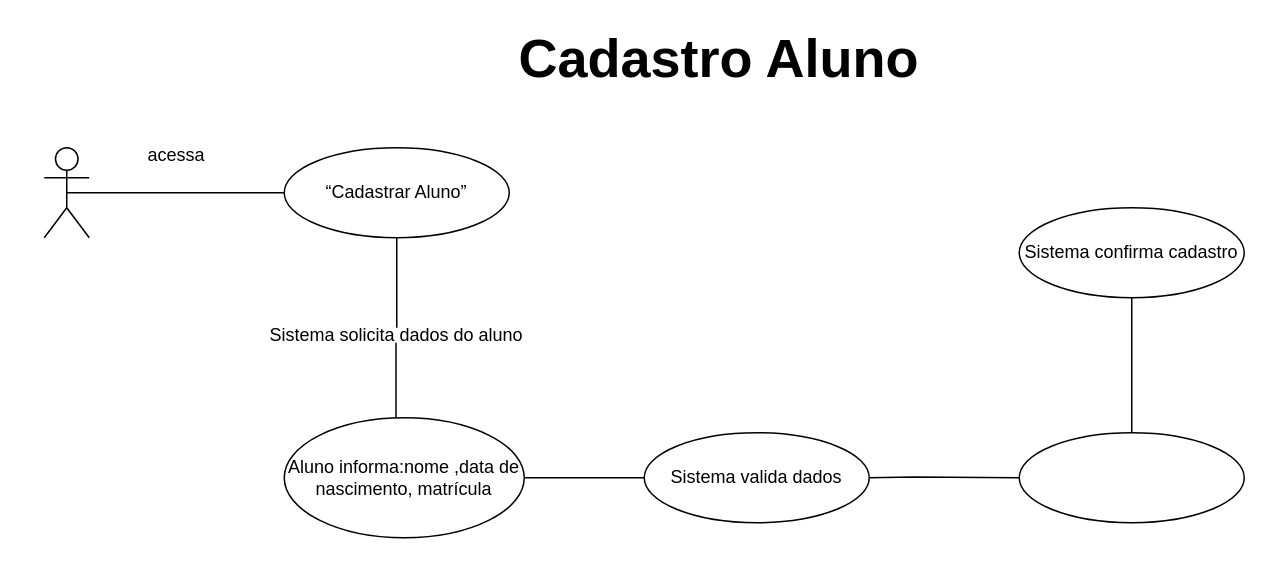
The diagram is 1271 pixels wide and 564 high, and some of its shapes have lost their labels. Here are the shapes that lost their labels. From the top down, the centre of each, then its label:
pixel 66 192: Secretaria
pixel 1131 477: Sistema salva aluno
